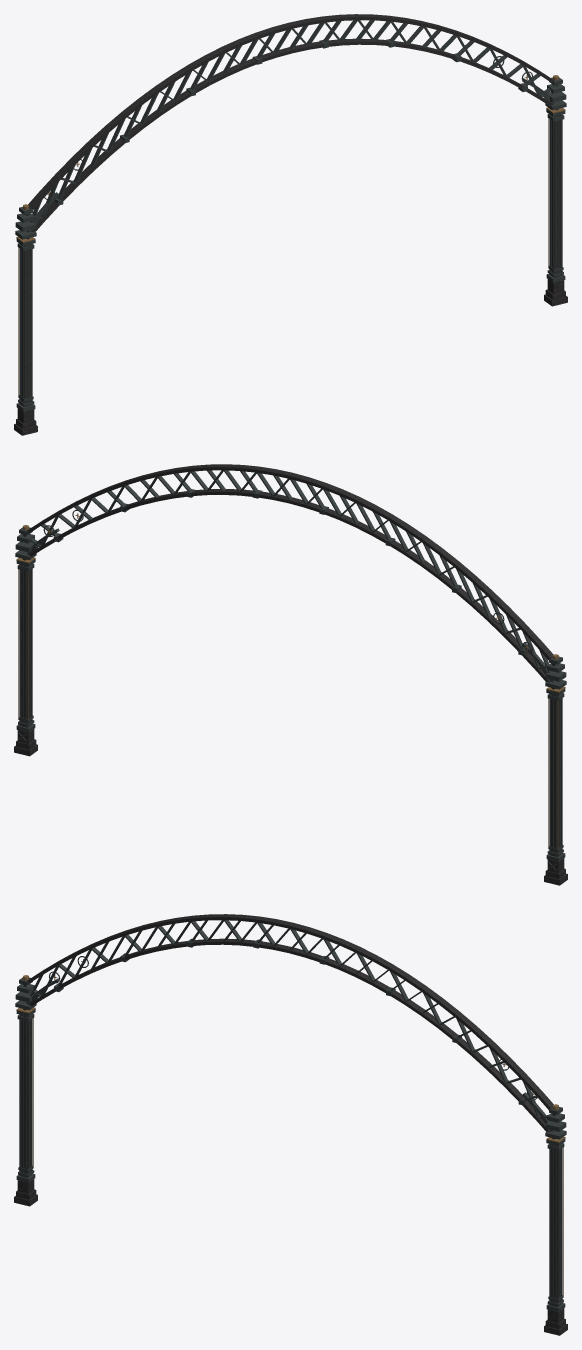
File: train_shed_end_frame.glb
3 renders of one model, top to bottom at view 1: azimuth 30°, elevation 25°; view 2: azimuth 150°, elevation 25°; view 3: azimuth 330°, elevation 25°, orthographic.
Parts seen in each view (by area): view 1: train_shed_end_frame_y_up; view 2: train_shed_end_frame_y_up; view 3: train_shed_end_frame_y_up.
Part boxes in pixels (x1=…): train_shed_end_frame_y_up: x1=14, y1=14, x2=567, y2=435; train_shed_end_frame_y_up: x1=14, y1=464, x2=567, y2=885; train_shed_end_frame_y_up: x1=14, y1=914, x2=567, y2=1335.
Bounding box in the file's own units: 19.98 × 11.96 × 0.52.
Materials: 4 (4 with a texture image).
